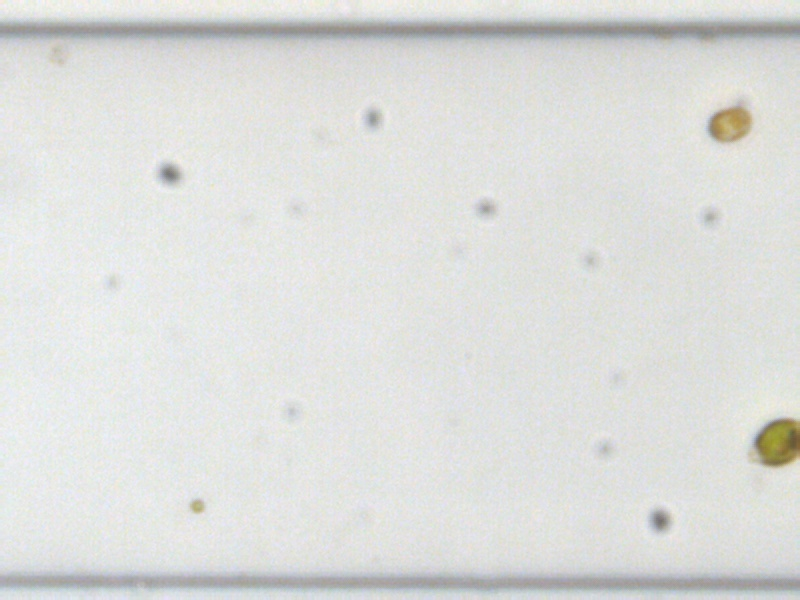Chlorella: (187, 497, 203, 512)
Effrenium: (704, 103, 753, 144)
Platymonas: (750, 417, 799, 466)
